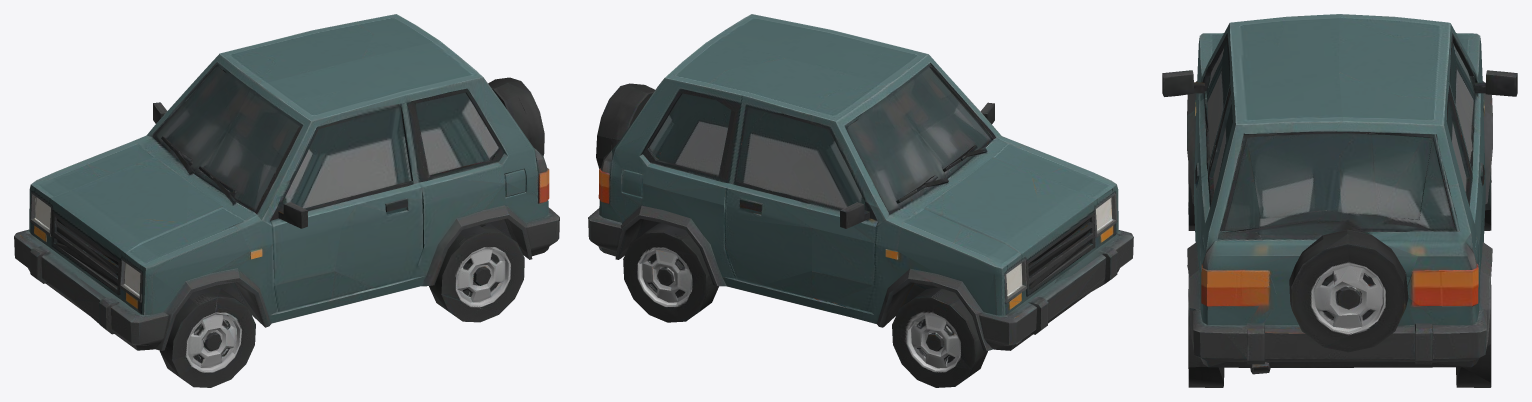
The model's file is car.glb.
The picture shows the model from 3 angles, left to right: view 1: azimuth 30°, elevation 25°; view 2: azimuth 150°, elevation 25°; view 3: azimuth 270°, elevation 25°; orthographic projection. The views are drawn at different scales.
Parts seen in each view (by area): view 1: Mesh_0; view 2: Mesh_0; view 3: Mesh_0.
Boxes of the visible parts, x1=… form: Mesh_0: x1=14, y1=14, x2=559, y2=387; Mesh_0: x1=588, y1=14, x2=1133, y2=387; Mesh_0: x1=1162, y1=14, x2=1517, y2=387.
Size of the model in its own units: 1.6 by 0.7759 by 0.9037.
Materials: 1 (1 with a texture image).
